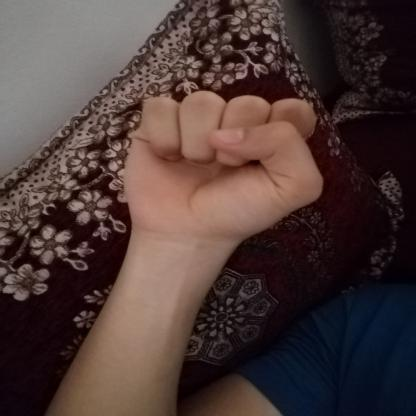SAD: (98, 77, 338, 258)
